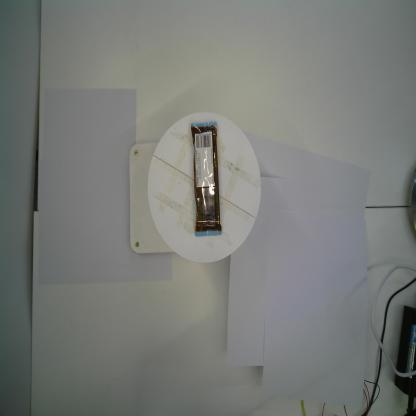Chocolate: (189, 118, 222, 240)
